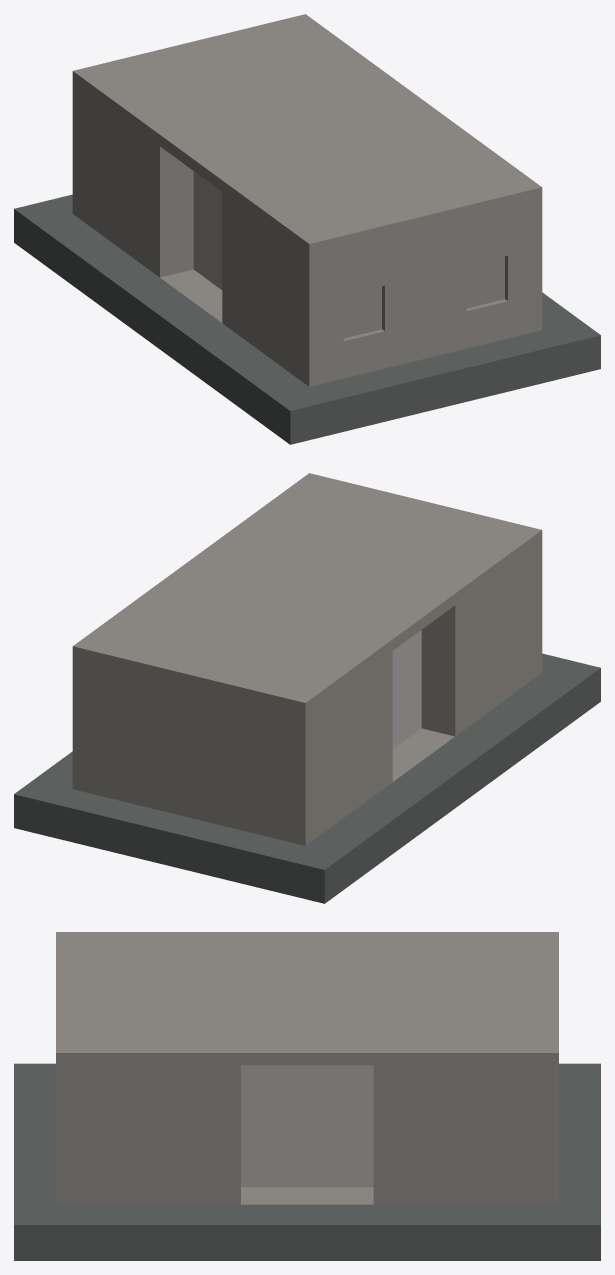
Rendered from SM_Env_Base_04.fbx.
3 views of the same model, one above another, from view 1: azimuth 30°, elevation 25°; view 2: azimuth 150°, elevation 25°; view 3: azimuth 270°, elevation 25° (orthographic). The views are drawn at different scales.
Parts seen in each view (by area): view 1: SM_Env_Base_04; view 2: SM_Env_Base_04; view 3: SM_Env_Base_04.
Part boxes in pixels (x1,y1,x2,y2): SM_Env_Base_04: (14,14,600,444); SM_Env_Base_04: (14,473,600,903); SM_Env_Base_04: (14,932,600,1260).
Size of the model in its own units: 806 by 438 by 1242.
Materials: 1 (1 with a texture image).
